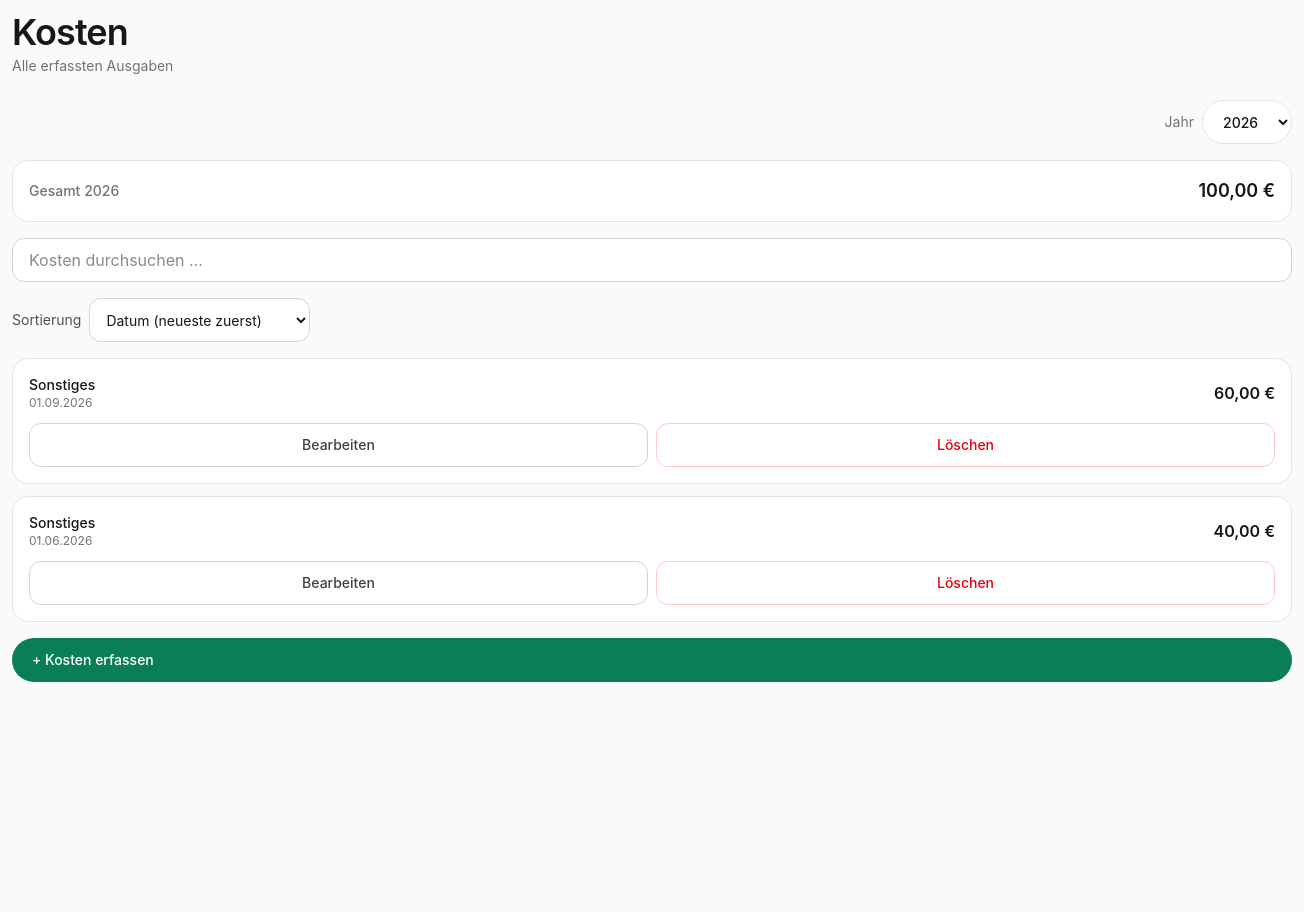
Test: CostsPage › shows the year filter default and scopes both the list and the total to the selected year
Check: the text "Gesamt 2026" is shown, box [29,181,119,201]
Check: the text "100,00 €" is shown once, box [1198,177,1275,205]
Select "2025" in the dropdown labelled "Jahr" at (1247, 122), box [1202,100,1292,144]
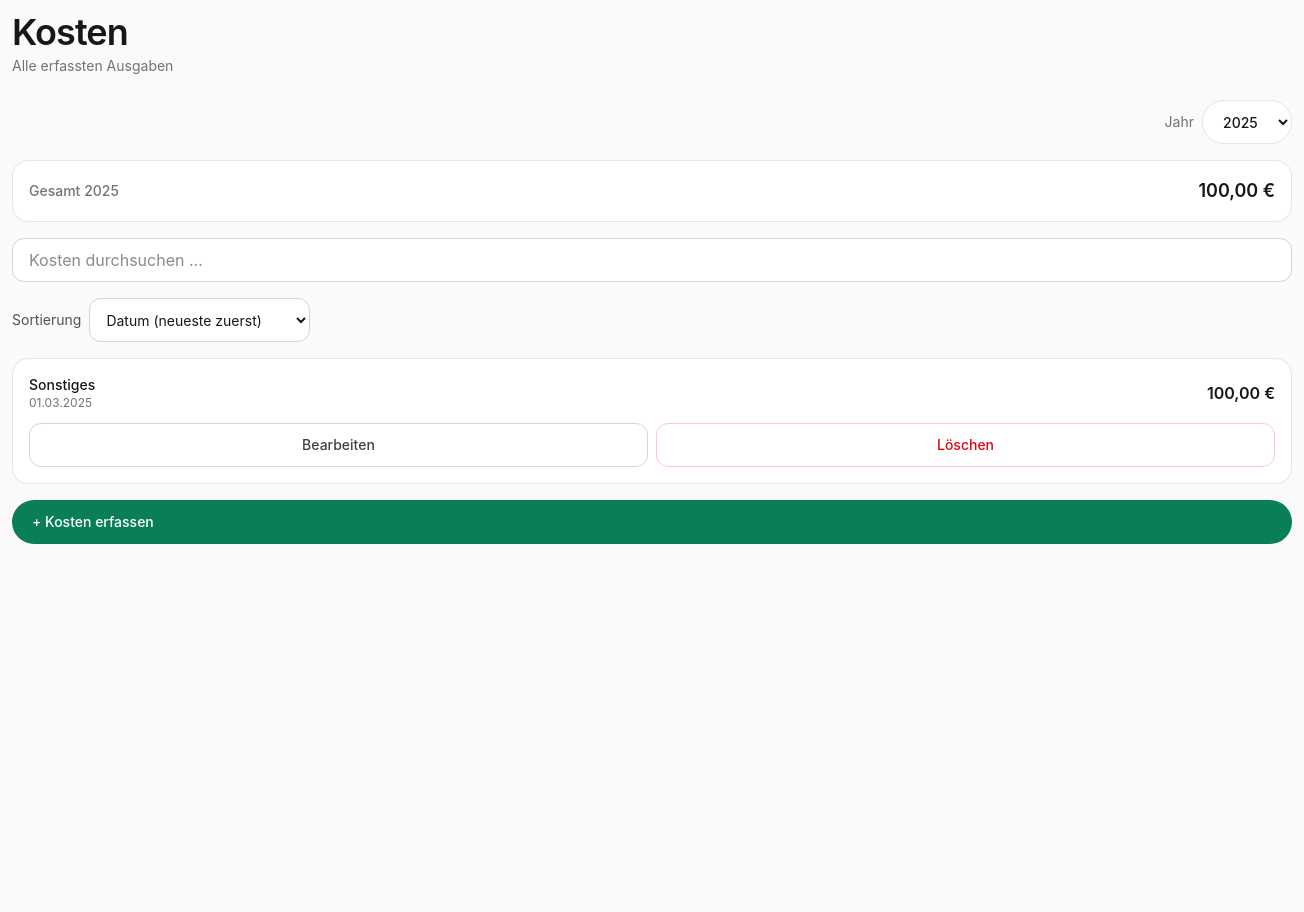
Check: the text "Gesamt 2025" is shown, box [29,181,119,201]
Check: the button "40,00 €" is gone
Check: the button "60,00 €" is gone
